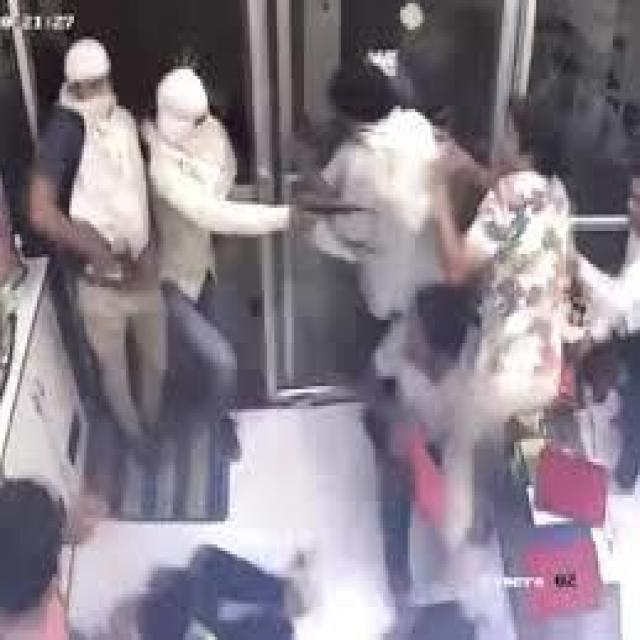weapon: (282, 178, 368, 238), (98, 234, 138, 284)
